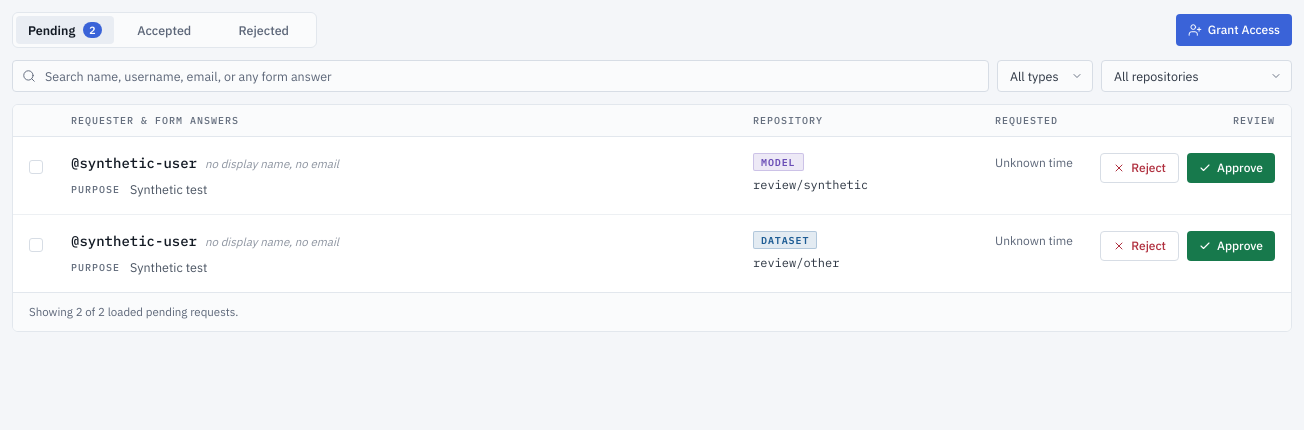
Test: real dashboard integration › retains only the failed repository identity for the same username
This screenshot has width=1304, height=430.
What coordinates should you click on to do the following:
click the checkbox named "Select synthetic-user" in the row of "model"
I would click on:
 (36, 167)
Its box is [29,160,43,174].
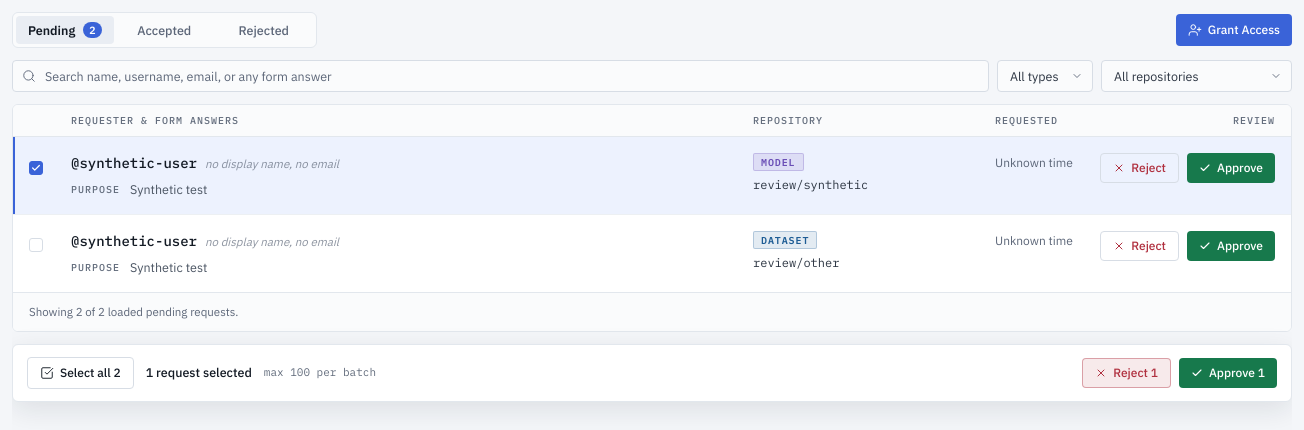
What coordinates should you click on to do the following:
click the checkbox named "Select synthetic-user" in the row of "dataset"
I would click on:
 (36, 245)
Its box is [29,238,43,252].
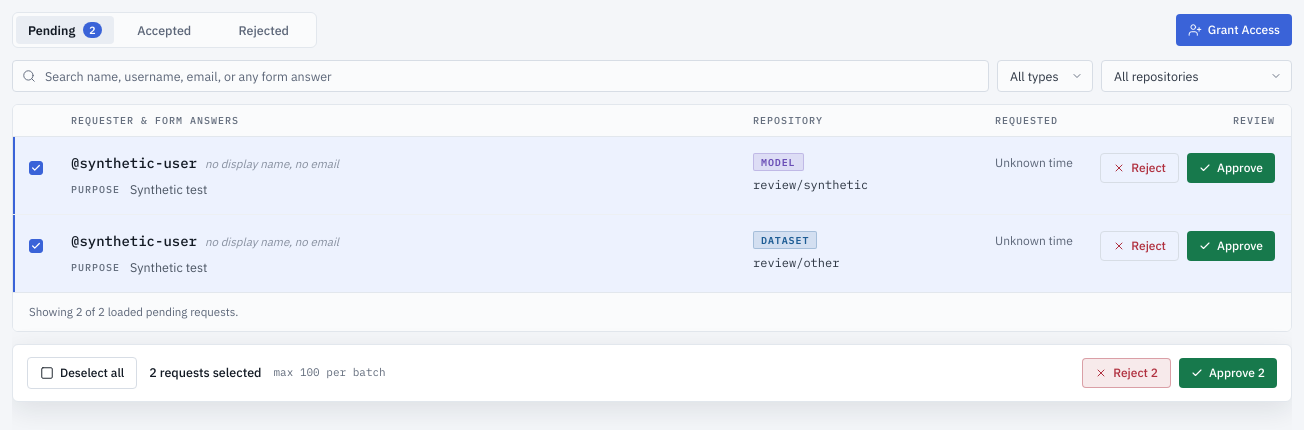
What coordinates should you click on to do the following:
click the button "Approve 2"
I would click on:
 (1228, 372)
Its box is [1179,358,1277,388].
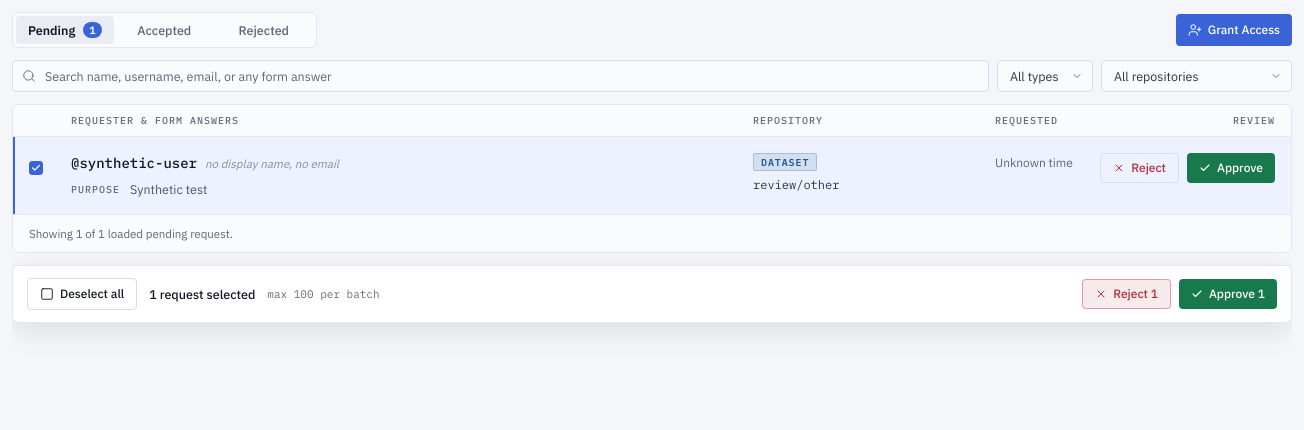
Check: the number of checkboxes named "Select synthetic-user" is 1, box [29,161,43,175]
